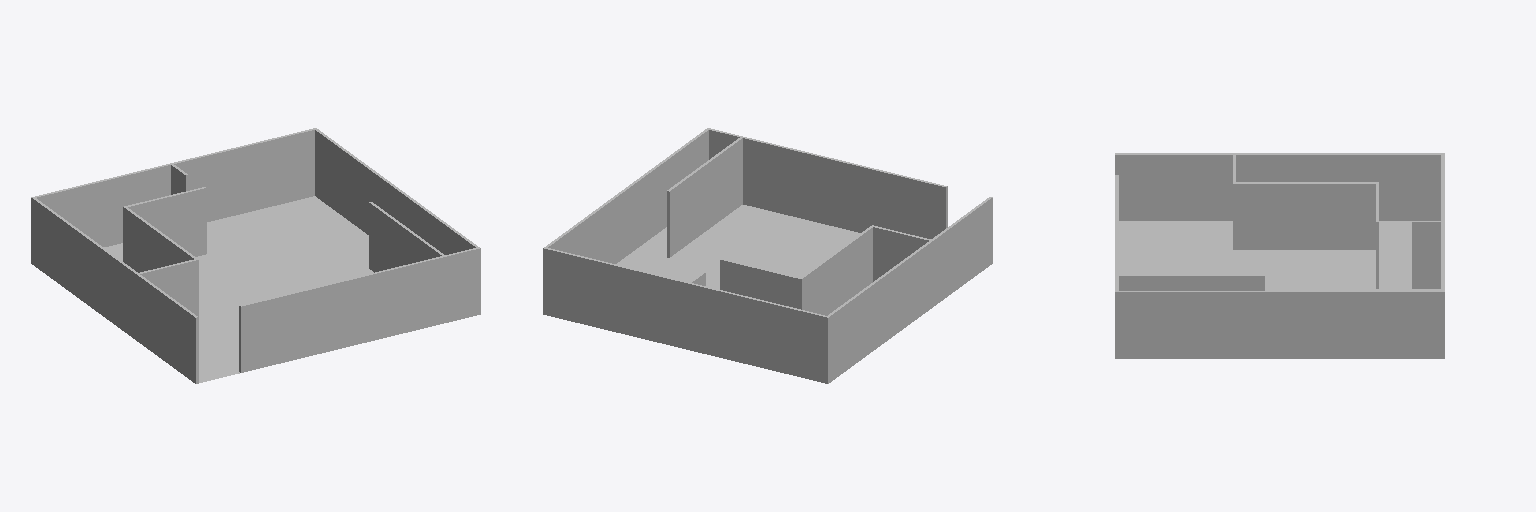
Rendered from Room.obj.
The picture shows the model from 3 angles: view 1: azimuth 30°, elevation 25°; view 2: azimuth 150°, elevation 25°; view 3: azimuth 270°, elevation 25°; orthographic projection.
Visible parts, largest first — view 1: Plane.001; view 2: Plane.001; view 3: Plane.001.
Boxes of the visible parts, x1=… form: Plane.001: x1=31, y1=128, x2=480, y2=383; Plane.001: x1=543, y1=128, x2=992, y2=383; Plane.001: x1=1115, y1=153, x2=1444, y2=358.
Size of the model in its own units: 40 by 8.91 by 40.